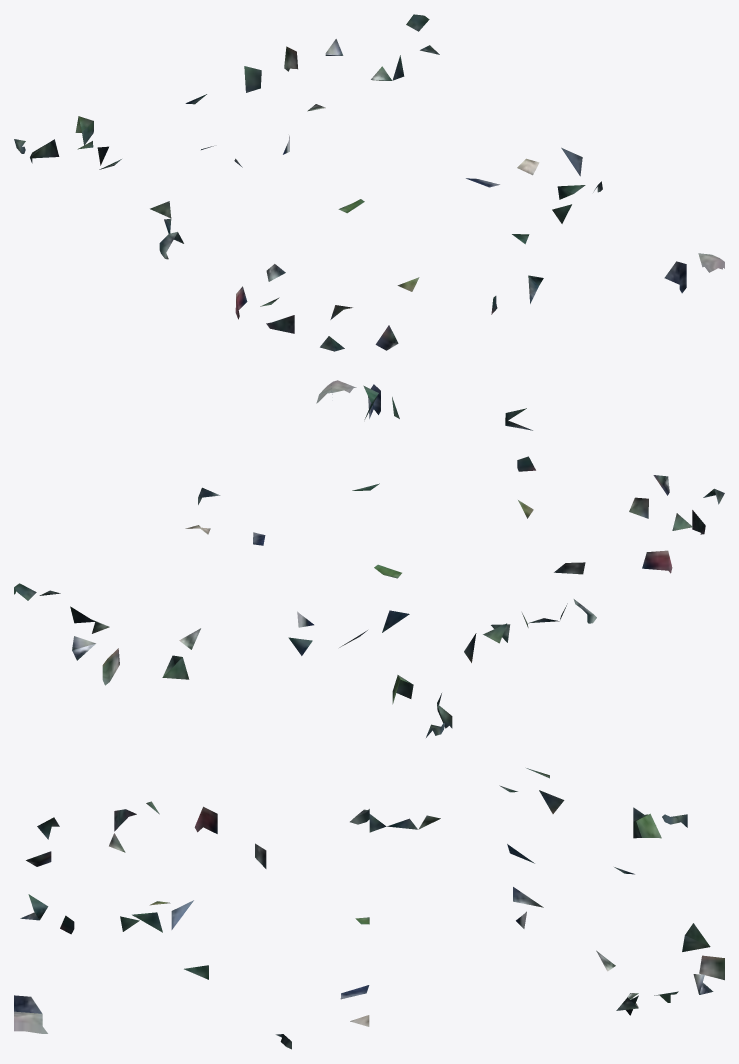
3 renders of one model, top to bottom at view 1: azimuth 30°, elevation 25°; view 2: azimuth 150°, elevation 25°; view 3: azimuth 270°, elevation 25°, orthographic. The views are drawn at different scales.
Parts seen in each view (by area): view 1: 304362727043616046_1; view 2: 304362727043616046_1; view 3: 304362727043616046_1.
Boxes of the visible parts, box(x1,y1,x2,y2) form: 304362727043616046_1: box(14, 14, 724, 351); 304362727043616046_1: box(14, 380, 724, 737); 304362727043616046_1: box(14, 768, 724, 1049).
Bounding box in the file's own units: 109 × 25.27 × 153.
1 material, 1 textured.
